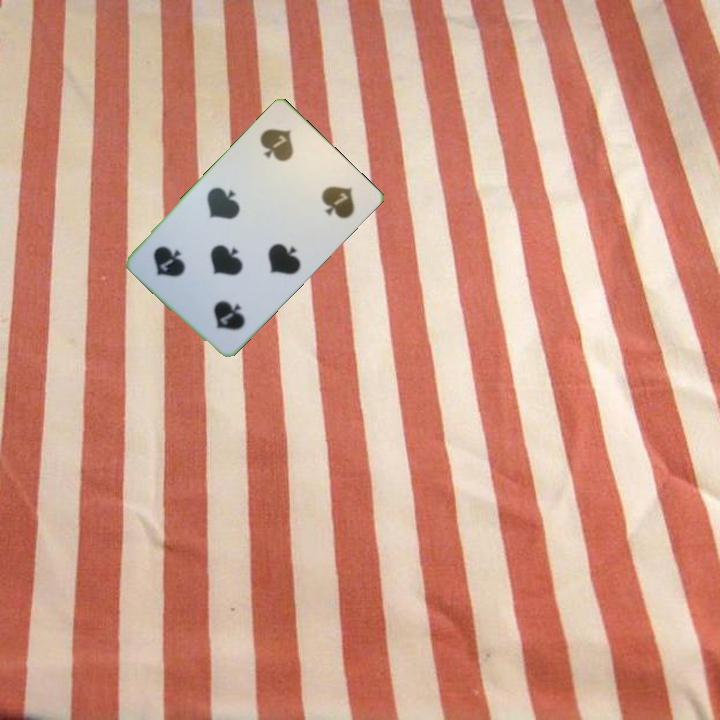s_7.png: (178, 263, 265, 349), (241, 110, 327, 196)
